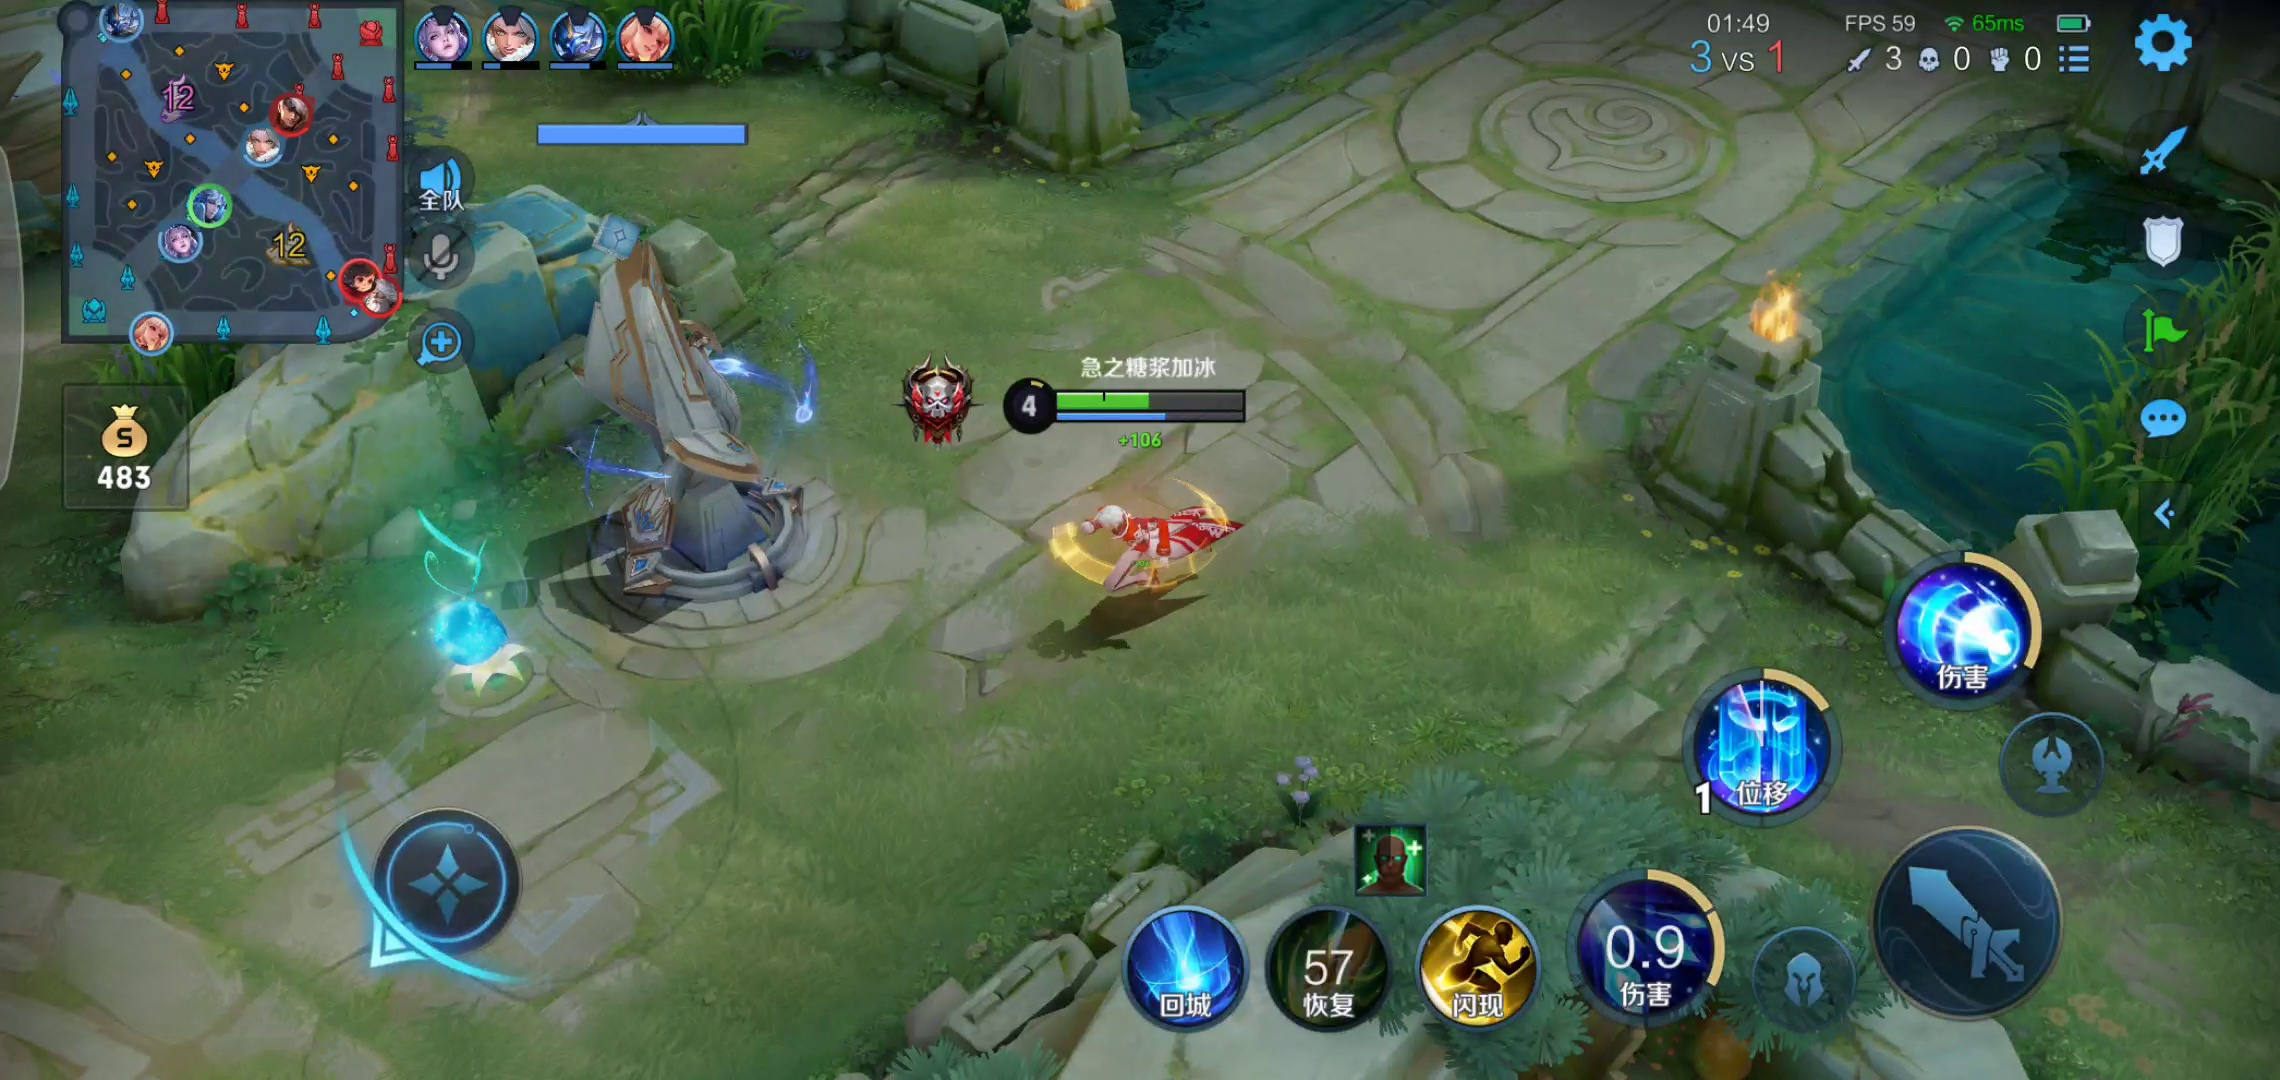grass: (2060, 202, 2280, 592), (63, 356, 249, 433), (634, 1, 787, 78)
hero: (1044, 458, 1242, 634)
tower: (545, 231, 838, 629)
